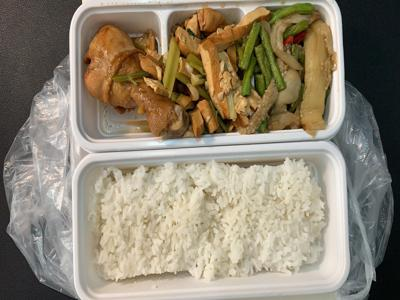jt: (65, 6, 175, 140)
rice: (81, 163, 335, 279)
sqz: (257, 2, 340, 138)
